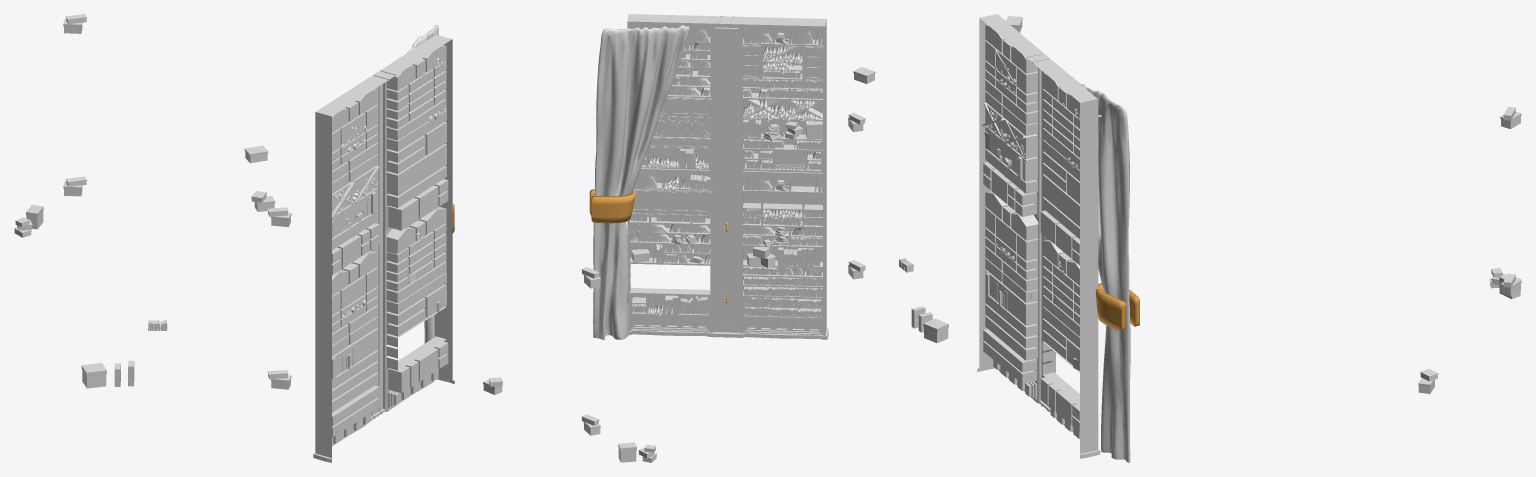
Rendered from Lobby_NoAnim_v23.fbx.
The picture shows the model from 3 angles, left to right: view 1: azimuth 30°, elevation 25°; view 2: azimuth 150°, elevation 25°; view 3: azimuth 270°, elevation 25°; orthographic projection. The views are drawn at different scales.
Visible parts, largest first — view 1: Cube.329; view 2: Cube.329; view 3: Cube.329.
Boxes of the visible parts, x1,y1,x2,y2 form: Cube.329: [14, 14, 454, 462]; Cube.329: [483, 14, 948, 462]; Cube.329: [977, 14, 1521, 462].
Size of the model in its own units: 34.82 by 41.79 by 30.07.
